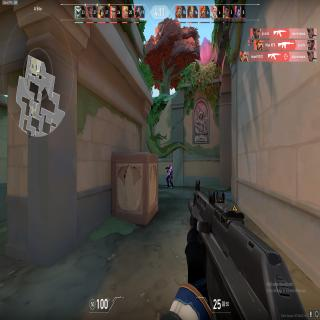ENEMY-BODY: (166, 162, 174, 190)
ENEMY-HEAD: (168, 162, 170, 167)
